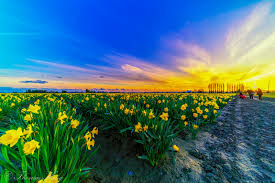flower: (5, 91, 226, 179)
sky: (2, 2, 274, 88)
